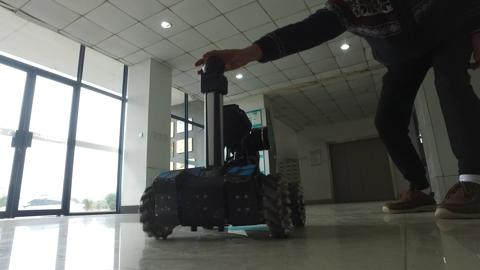chariot: (131, 57, 318, 244)
